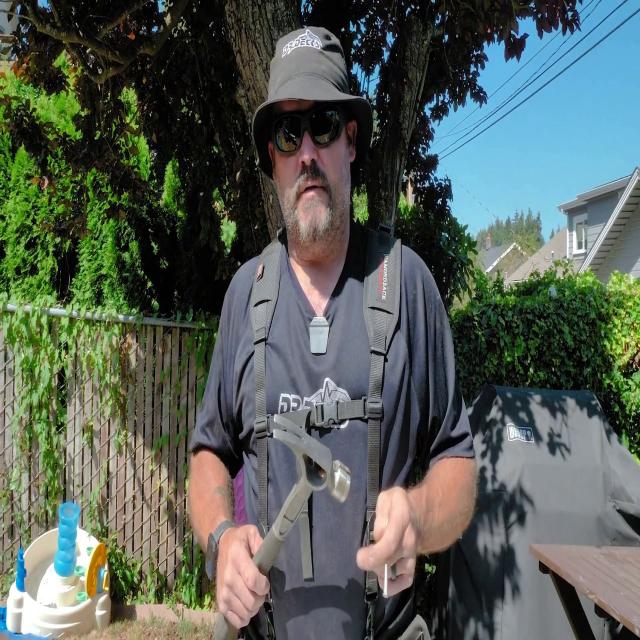hammer: (212, 411, 350, 640)
